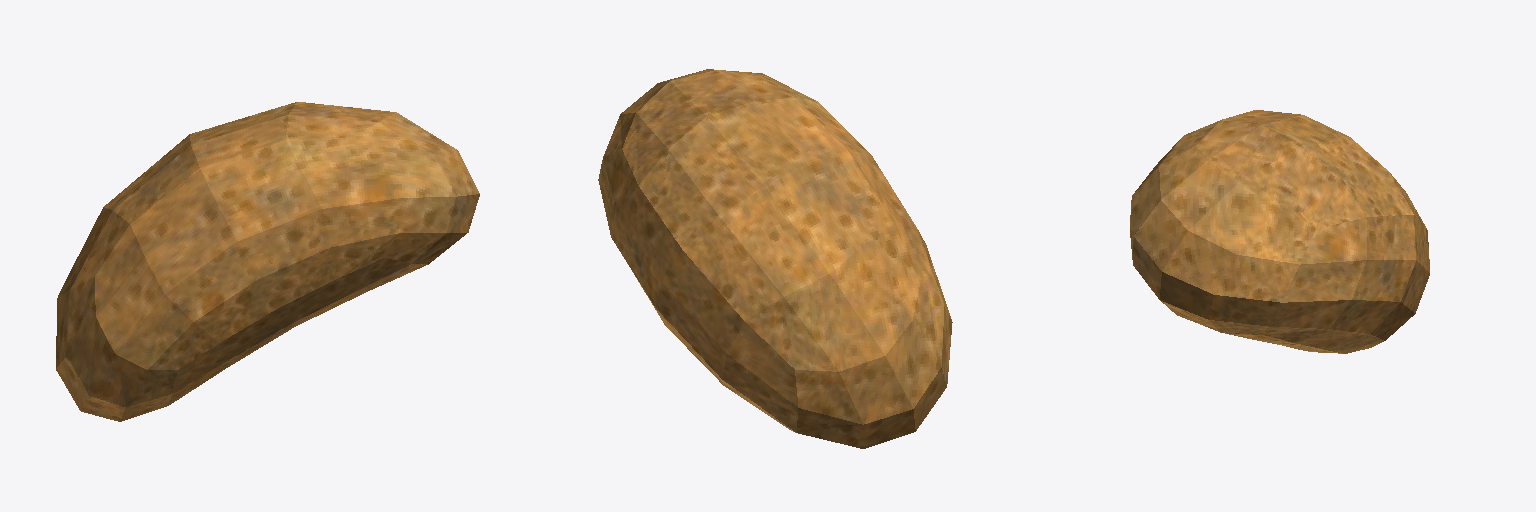
3 views of the same model, side by side, from view 1: azimuth 30°, elevation 25°; view 2: azimuth 150°, elevation 25°; view 3: azimuth 270°, elevation 25° (orthographic).
Visible parts, largest first — view 1: potate; view 2: potate; view 3: potate.
Boxes of the visible parts, <box> form: potate: <box>56,102,479,421</box>; potate: <box>598,69,952,448</box>; potate: <box>1130,110,1429,353</box>.
Bounding box in the file's own units: 67.88 × 50.98 × 48.76.
1 materials, 1 textured.